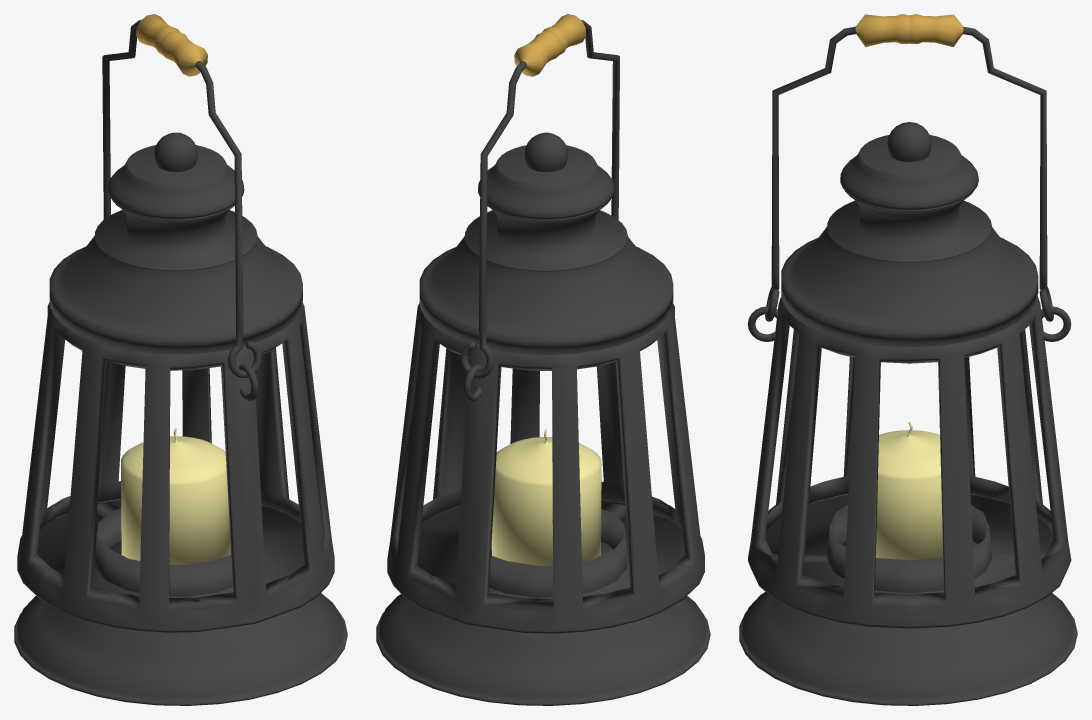
Rendered from Lantern.fbx.
3 views of the same model, side by side, from view 1: azimuth 30°, elevation 25°; view 2: azimuth 150°, elevation 25°; view 3: azimuth 270°, elevation 25° (orthographic).
Visible parts, largest first — view 1: Lantern, Handle; view 2: Lantern, Handle; view 3: Lantern, Handle.
Part boxes in pixels (x1,y1,x2,y2): Lantern: (14, 132, 347, 705); Handle: (102, 14, 261, 378); Lantern: (376, 132, 710, 705); Handle: (460, 14, 619, 378); Lantern: (739, 122, 1077, 705); Handle: (765, 14, 1053, 321).
Size of the model in its own units: 259 by 519 by 259.
